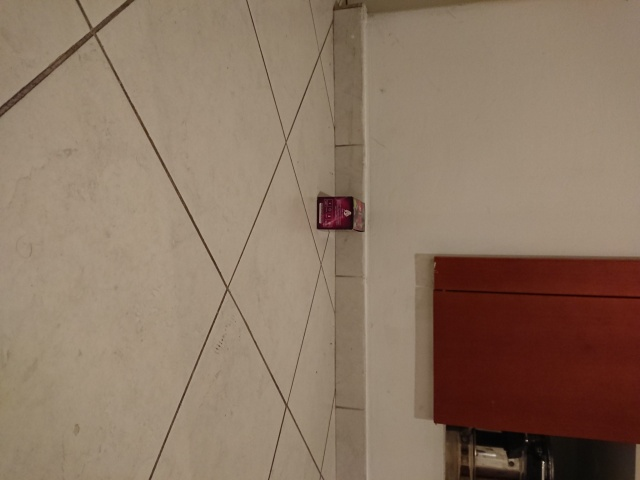Franck Black Currant Tea 60g: (314, 194, 368, 235)
